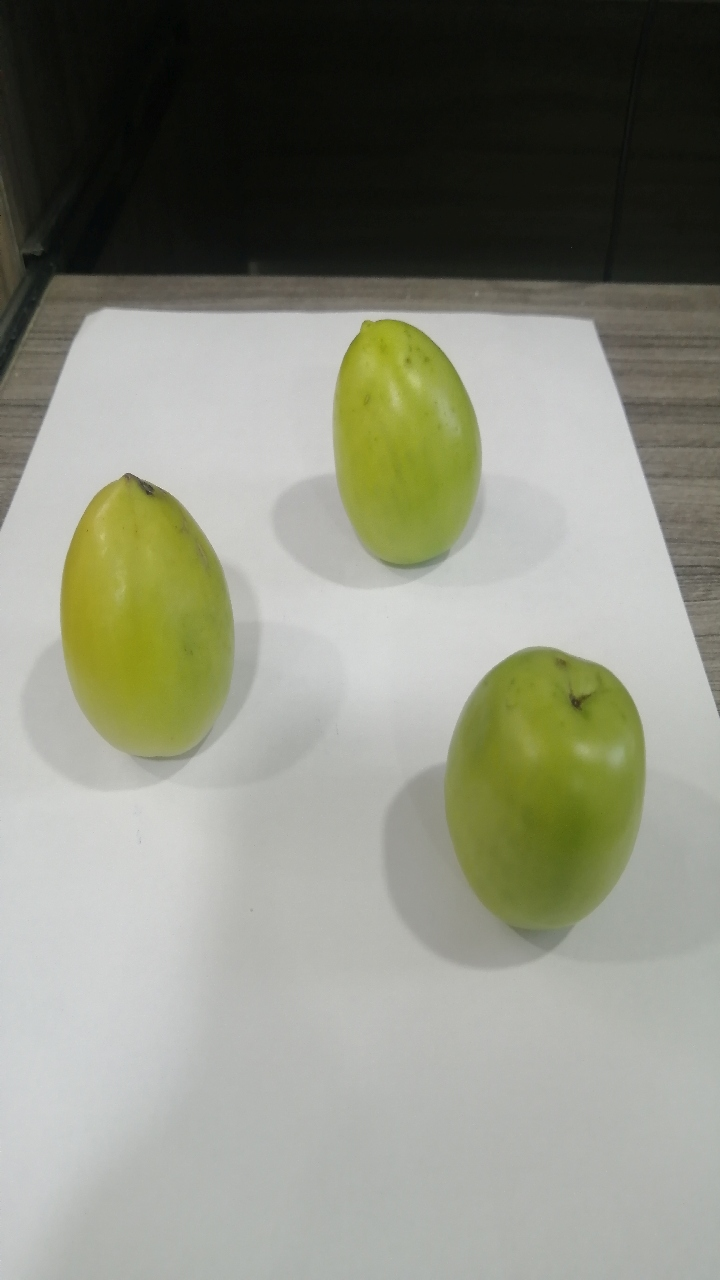tomateVerde: (31, 445, 281, 783), (415, 628, 671, 955), (312, 292, 529, 597)
